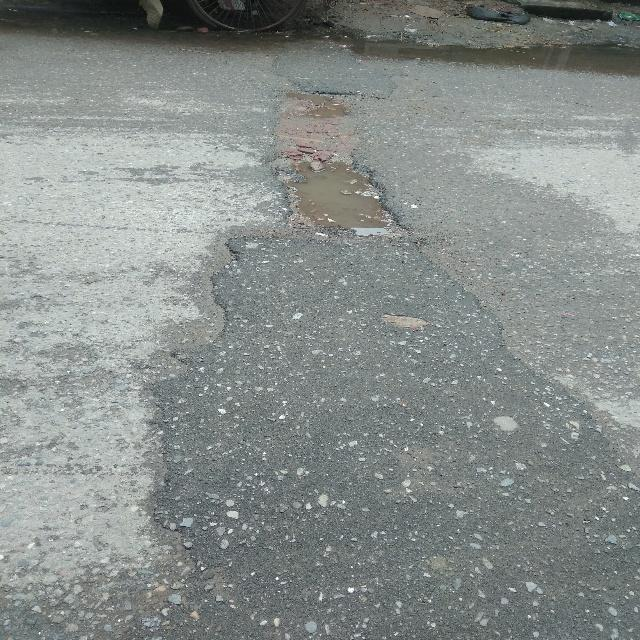Crack: (412, 253, 640, 437), (154, 186, 247, 600)
Pothole: (274, 102, 418, 252)
